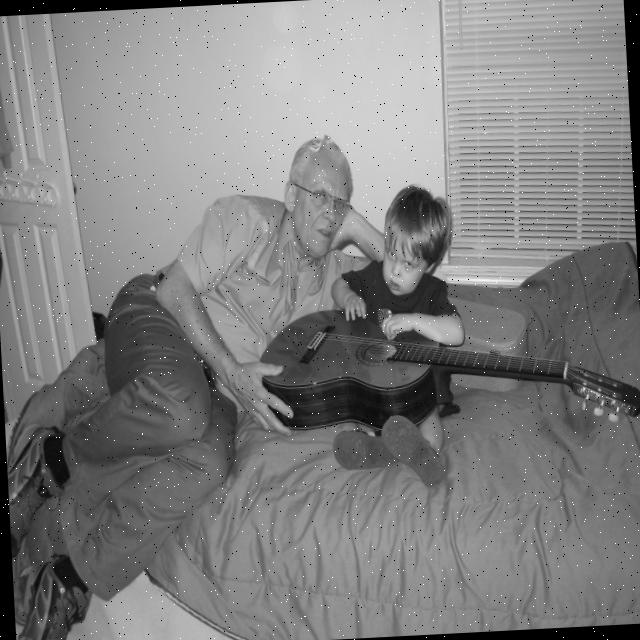guitar: (253, 289, 640, 438)
